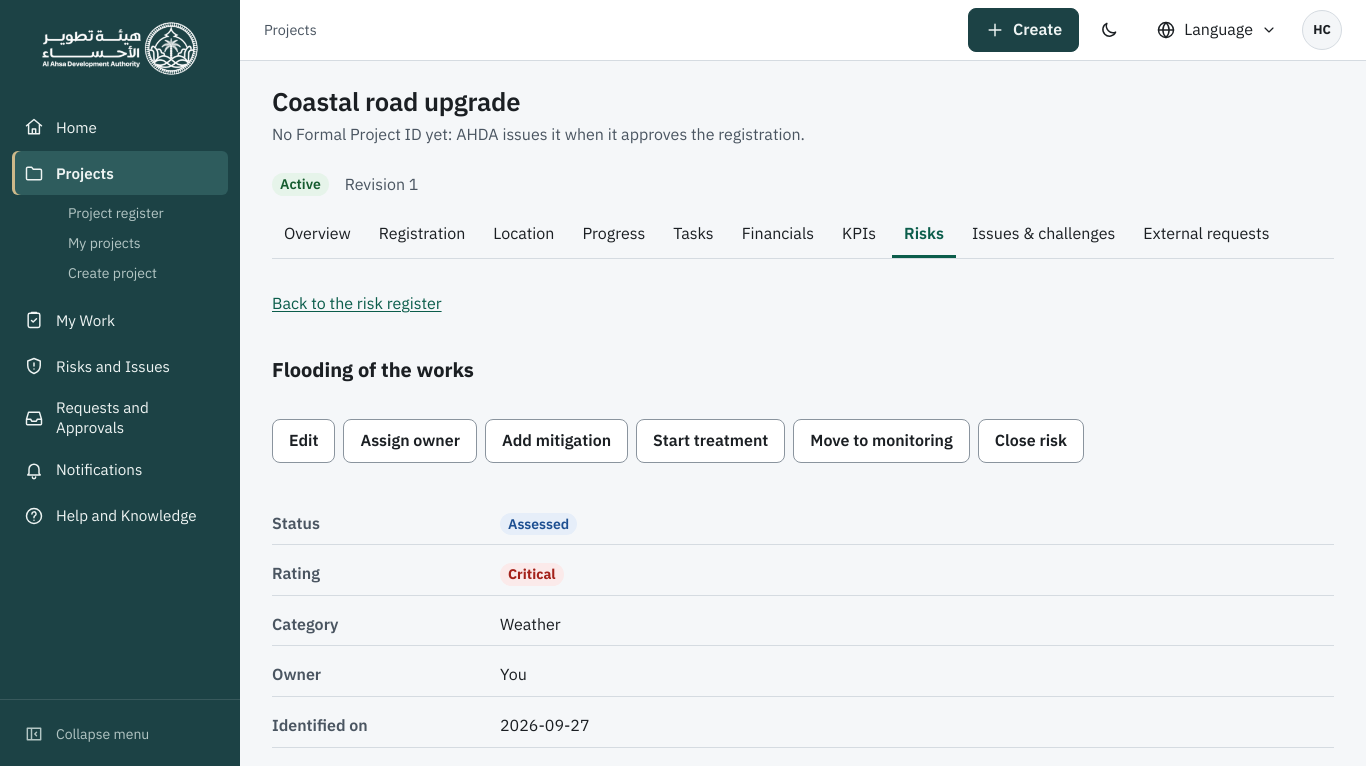
Test: MOD-035 Close Risk (acceptance criterion 2) › closes with the rationale and the ETag, warning of the open actions
Click the button "Close risk" at (1031, 441), box [978,419,1084,463]
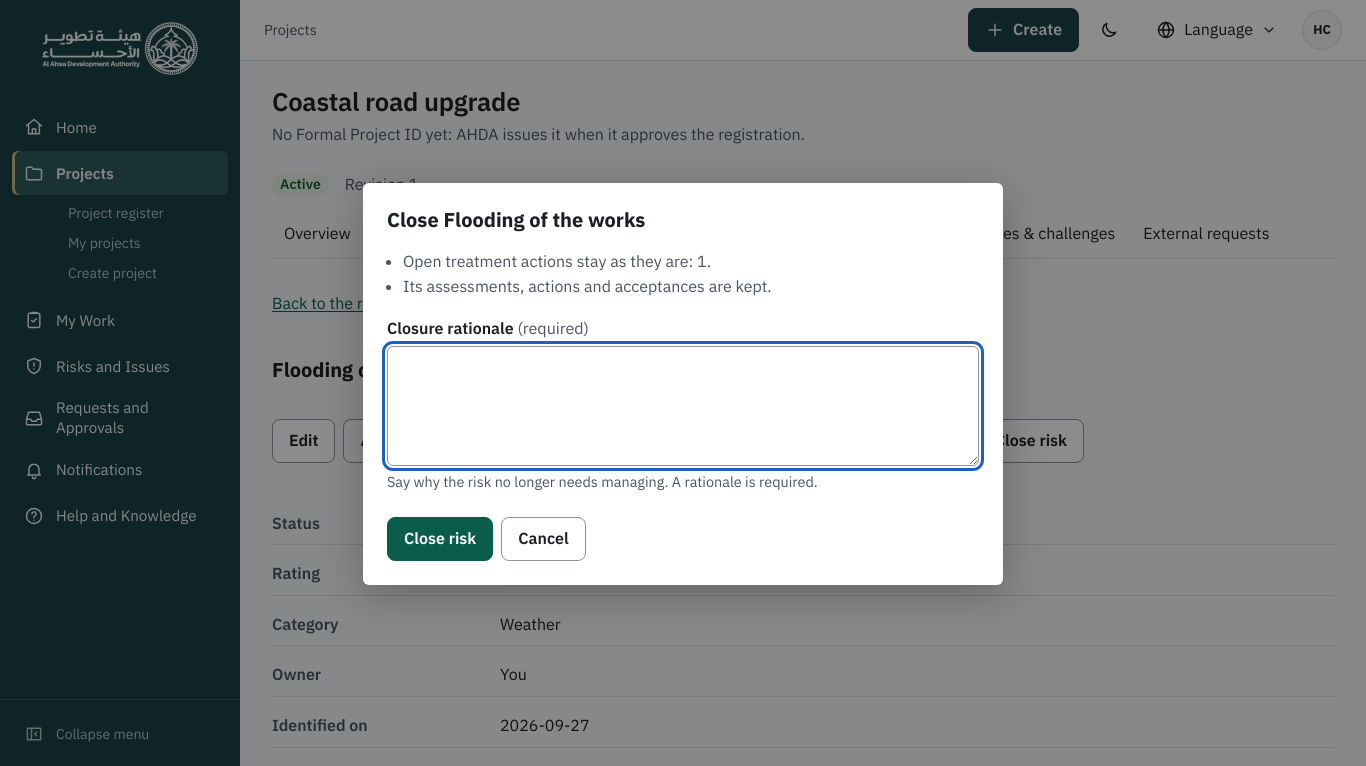
Type "  Barriers installed; the rainy season is over.  " into the text box labelled "Closure rationale (required)" at (683, 406), box [387,346,979,466]
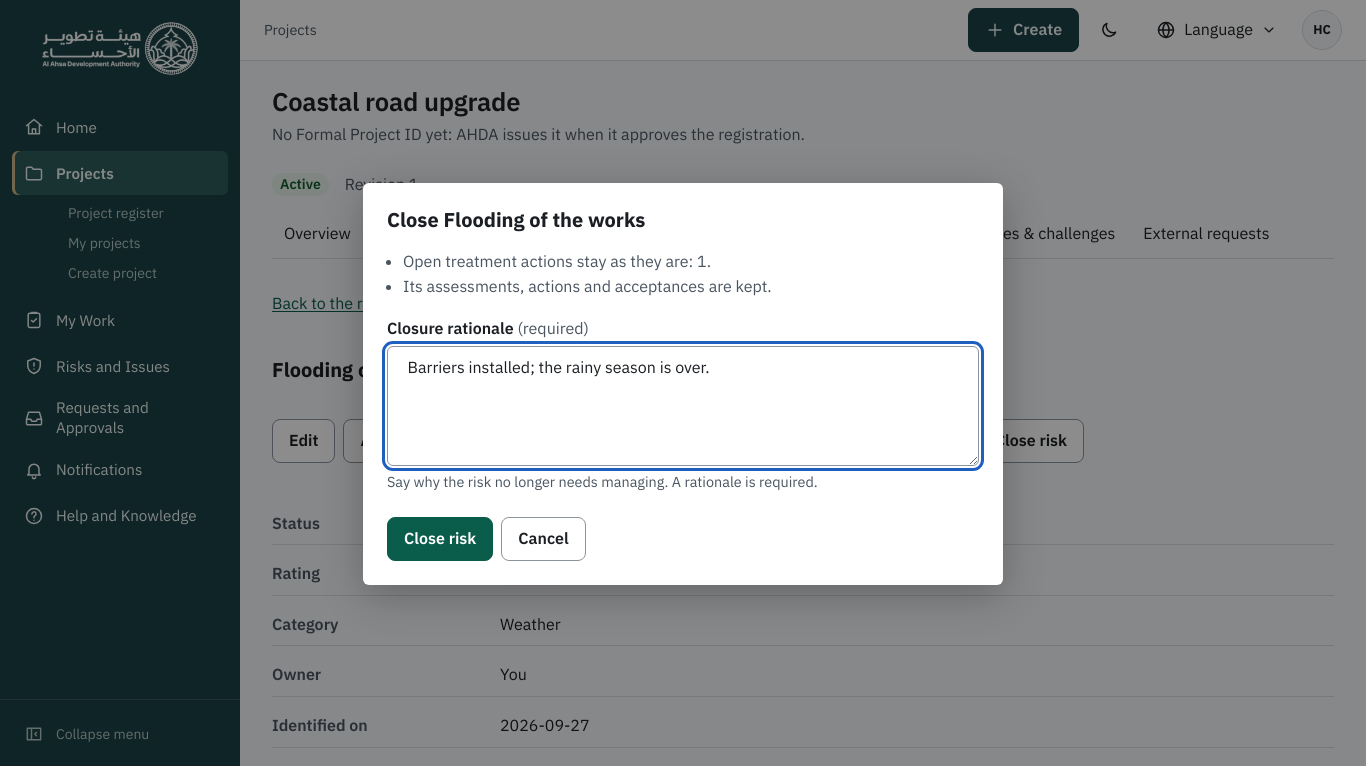
Click the button "Close risk" at (440, 539), box [387,517,493,561]
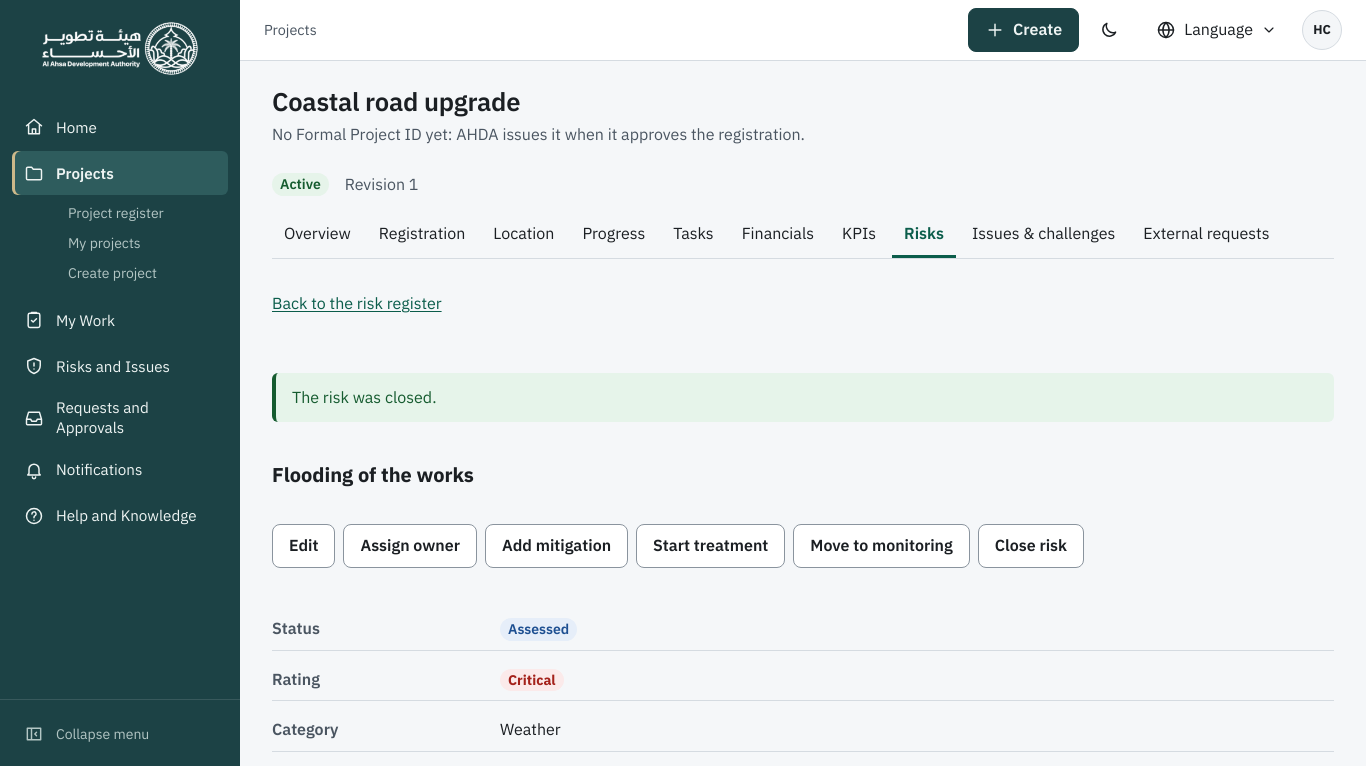
Expected: the text "The risk was closed." is shown, [272,373,1334,422]
